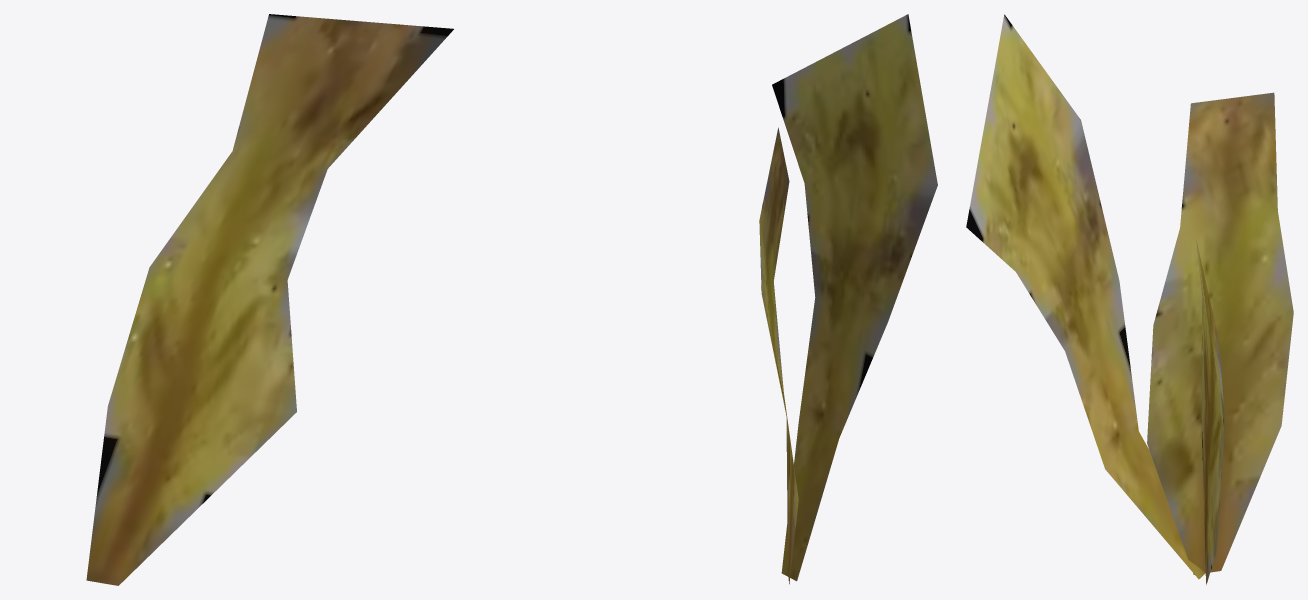
The model's file is Seaweed_D5-transformed.glb.
The picture shows the model from 3 angles, left to right: view 1: azimuth 30°, elevation 25°; view 2: azimuth 150°, elevation 25°; view 3: azimuth 270°, elevation 25°; orthographic projection. The views are drawn at different scales.
Parts seen in each view (by area): view 1: Seaweed_D5; view 2: Seaweed_D5; view 3: Seaweed_D5.
Boxes of the visible parts, left/top/right/bottom form: Seaweed_D5: left=86, top=14, right=453, bottom=585; Seaweed_D5: left=759, top=14, right=937, bottom=584; Seaweed_D5: left=966, top=14, right=1293, bottom=584.
Bounding box in the file's own units: 0.4721 × 0.5708 × 0.3077.
1 material, 1 textured.
